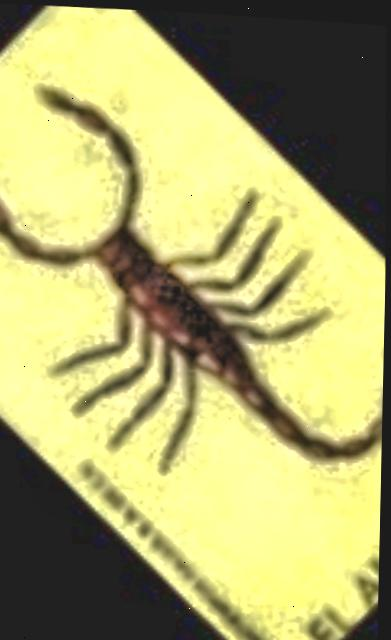El Alacran: (0, 8, 385, 640)
